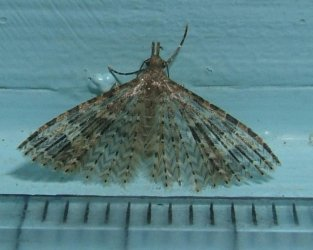Alucitidae: (18, 20, 285, 192)
moth: (16, 18, 283, 190)
